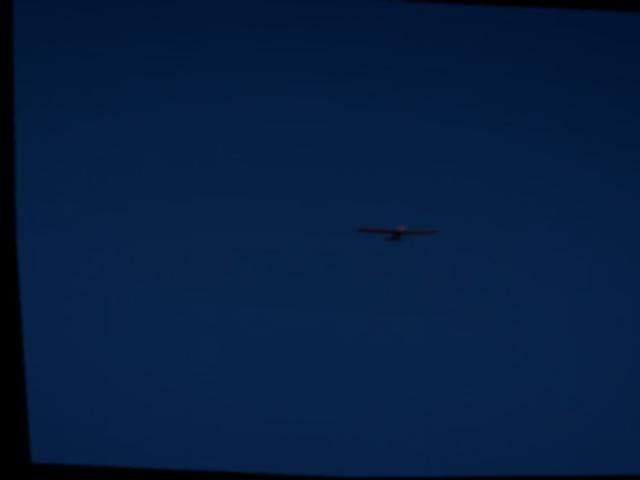iha: (351, 221, 437, 249)
